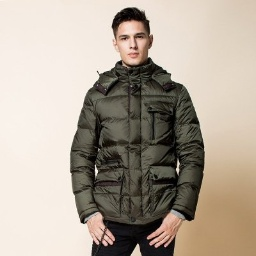face: (112, 6, 153, 66)
